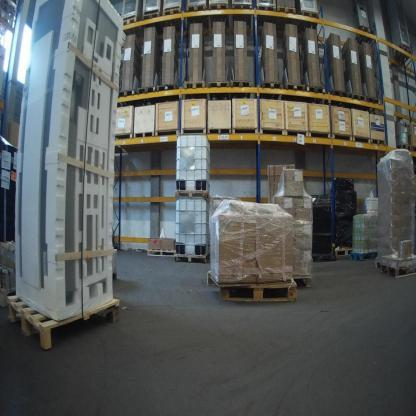pallets: (114, 78, 386, 114), (6, 290, 121, 349), (207, 271, 297, 302), (376, 255, 415, 278), (173, 253, 208, 263), (146, 249, 176, 256)
